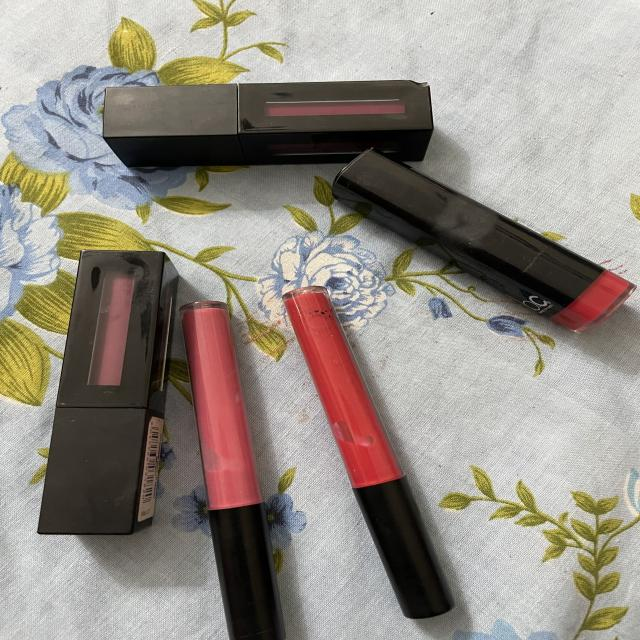lip gloss: (272, 262, 468, 626), (24, 231, 182, 558), (172, 291, 295, 639), (79, 66, 457, 165)
lip stick: (322, 135, 640, 357)
